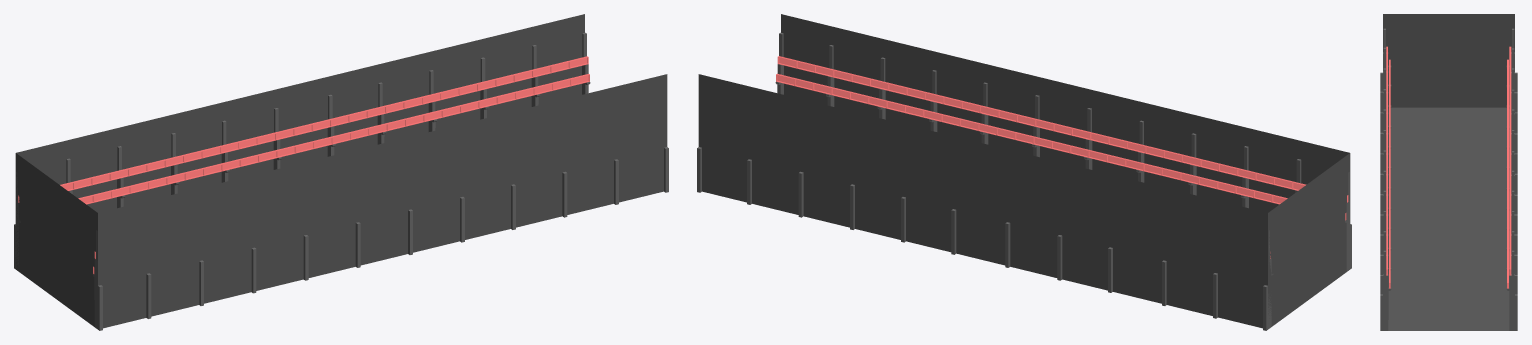
3 renders of one model, left to right at view 1: azimuth 30°, elevation 25°; view 2: azimuth 150°, elevation 25°; view 3: azimuth 270°, elevation 25°, orthographic. The views are drawn at different scales.
Parts seen in each view (by area): view 1: 3P, 3P_Rail007, 3P_Rail008, 3P_Pillar004, 3P_Pillar003, 3P_Rail01_s001, 3P_Rail02_s001; view 2: 3P, 3P_Rail005, 3P_Rail006, 3P_Pillar003, 3P_Pillar004, 3P_Rail01_s001, 3P_Rail02_s001; view 3: 3P, 3P_Pillar003, 3P_Pillar004, 3P_Rail007, 3P_Rail005, 3P_Rail006, 3P_Rail008, 3P_Rail02_s001, 3P_Rail01_s001.
Part boxes in pixels (box(x1,y1,x2,y2)): 3P: box(15, 14, 667, 328); 3P_Rail007: box(18, 56, 588, 202); 3P_Rail008: box(79, 74, 589, 204); 3P_Pillar004: box(14, 32, 590, 270); 3P_Pillar003: box(92, 147, 668, 330); 3P_Rail01_s001: box(60, 56, 586, 185); 3P_Rail02_s001: box(78, 74, 587, 198); 3P: box(698, 14, 1350, 328); 3P_Rail005: box(777, 56, 1348, 202); 3P_Rail006: box(776, 73, 1346, 220); 3P_Pillar003: box(775, 32, 1351, 271); 3P_Pillar004: box(697, 147, 1273, 330); 3P_Rail01_s001: box(779, 56, 1305, 184); 3P_Rail02_s001: box(778, 74, 1287, 198); 3P: box(1383, 14, 1514, 330); 3P_Pillar003: box(1380, 28, 1391, 330); 3P_Pillar004: box(1506, 28, 1517, 330); 3P_Rail007: box(1509, 46, 1511, 275); 3P_Rail005: box(1386, 46, 1387, 275); 3P_Rail006: box(1389, 59, 1390, 288); 3P_Rail008: box(1507, 59, 1508, 288); 3P_Rail02_s001: box(1389, 61, 1508, 282); 3P_Rail01_s001: box(1387, 48, 1510, 268).
Size of the model in its own units: 210 by 41.18 by 54.77.
